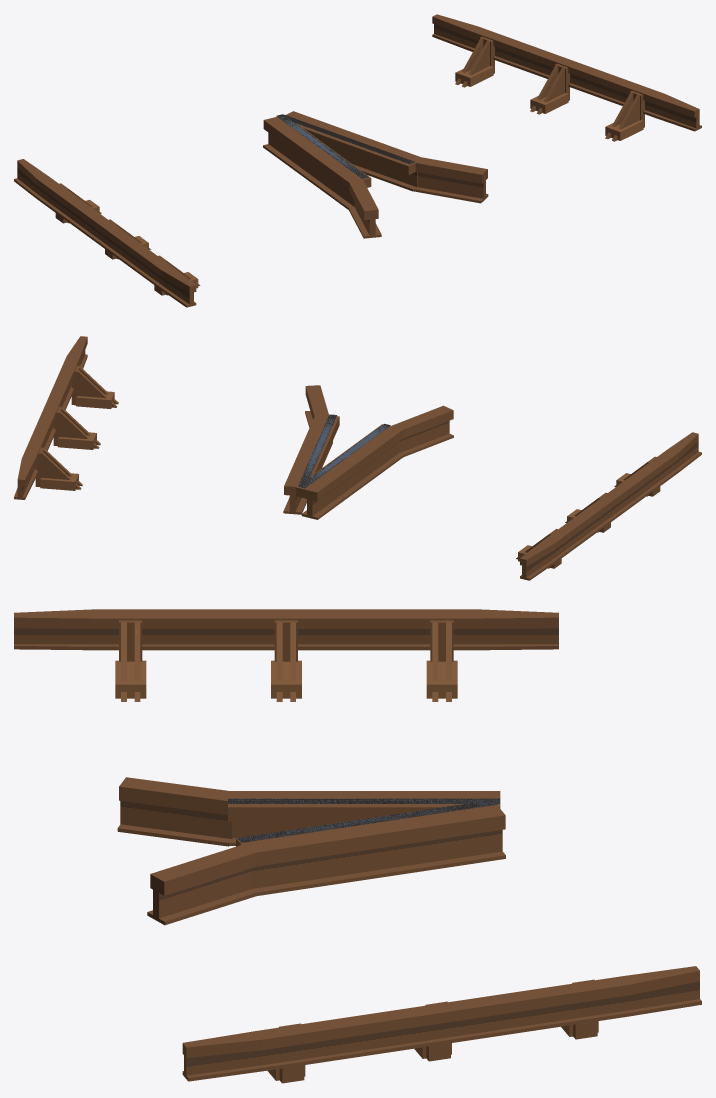
Rendered from frog_3.obj.
3 views of the same model, one above another, from view 1: azimuth 30°, elevation 25°; view 2: azimuth 150°, elevation 25°; view 3: azimuth 270°, elevation 25° (orthographic). The views are drawn at different scales.
Visible parts, largest first — view 1: cube; view 2: cube; view 3: cube.
Boxes of the visible parts, <box> form: cube: <box>14,14,701,307</box>; cube: <box>14,336,701,580</box>; cube: <box>14,609,701,1083</box>.
Bounding box in the file's own units: 3.35 × 0.1937 × 2.21.
